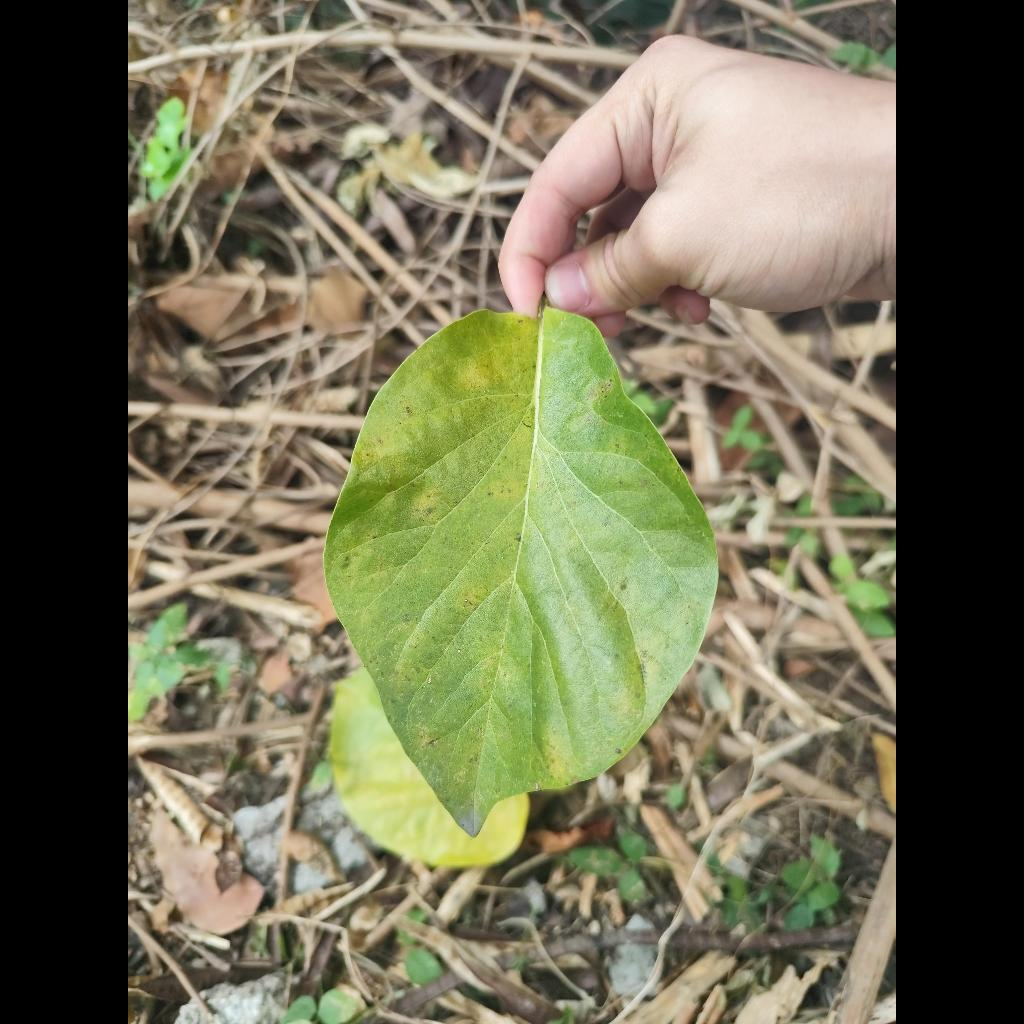deficiencia_nutricional: (325, 308, 717, 836)
